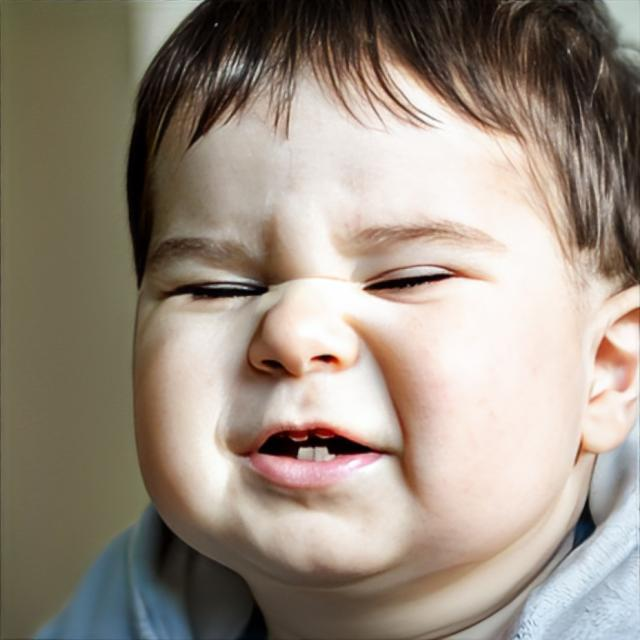disgust: (132, 51, 582, 588)
